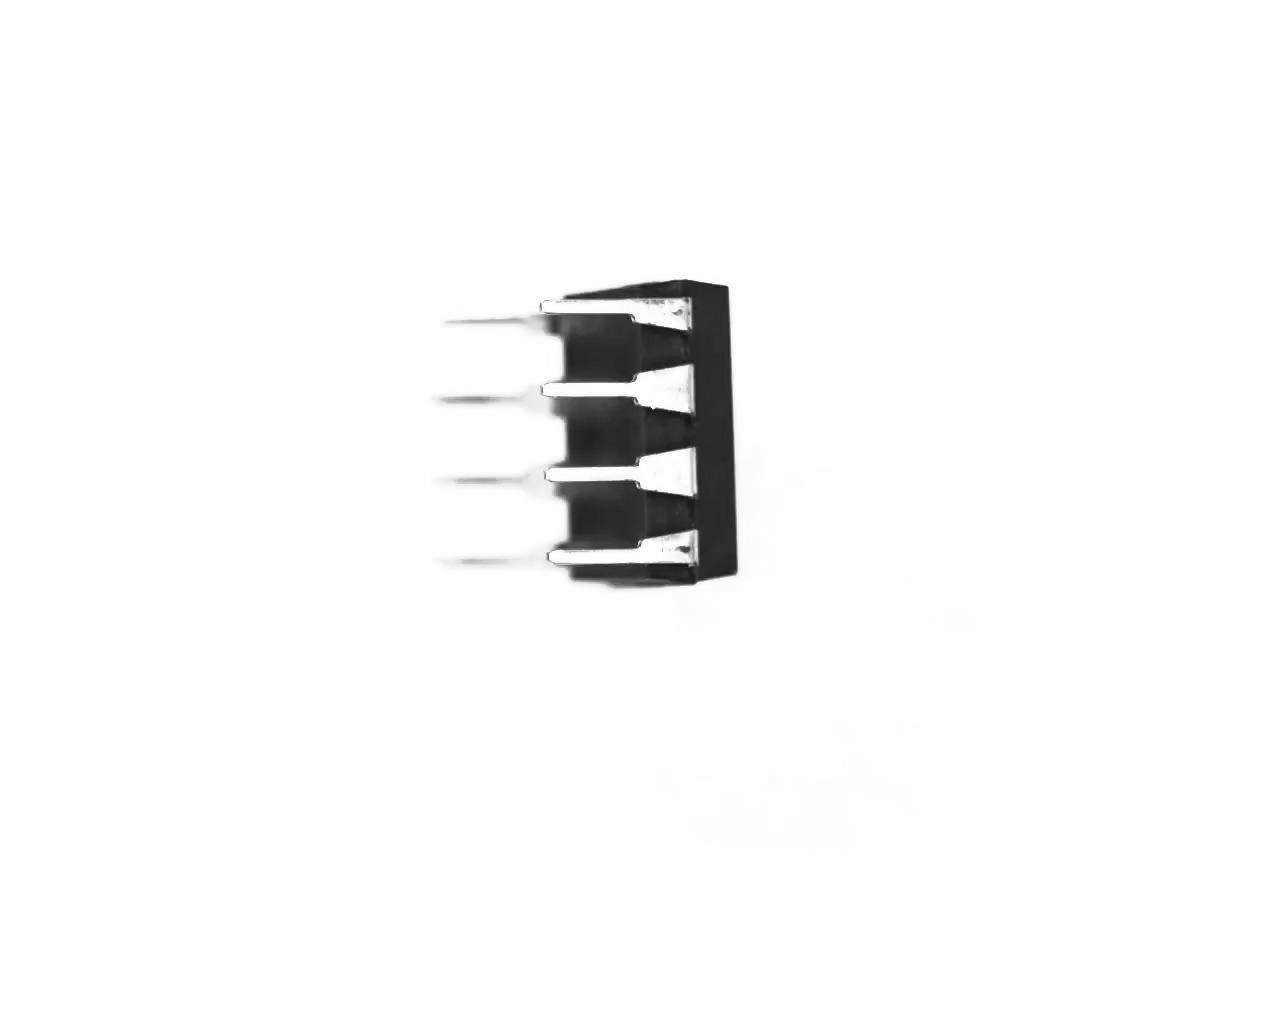Leg: (540, 446, 708, 504), (539, 372, 705, 420), (540, 292, 691, 342), (551, 541, 714, 583), (434, 459, 565, 505), (438, 385, 569, 421), (443, 541, 582, 574), (444, 305, 564, 342)
